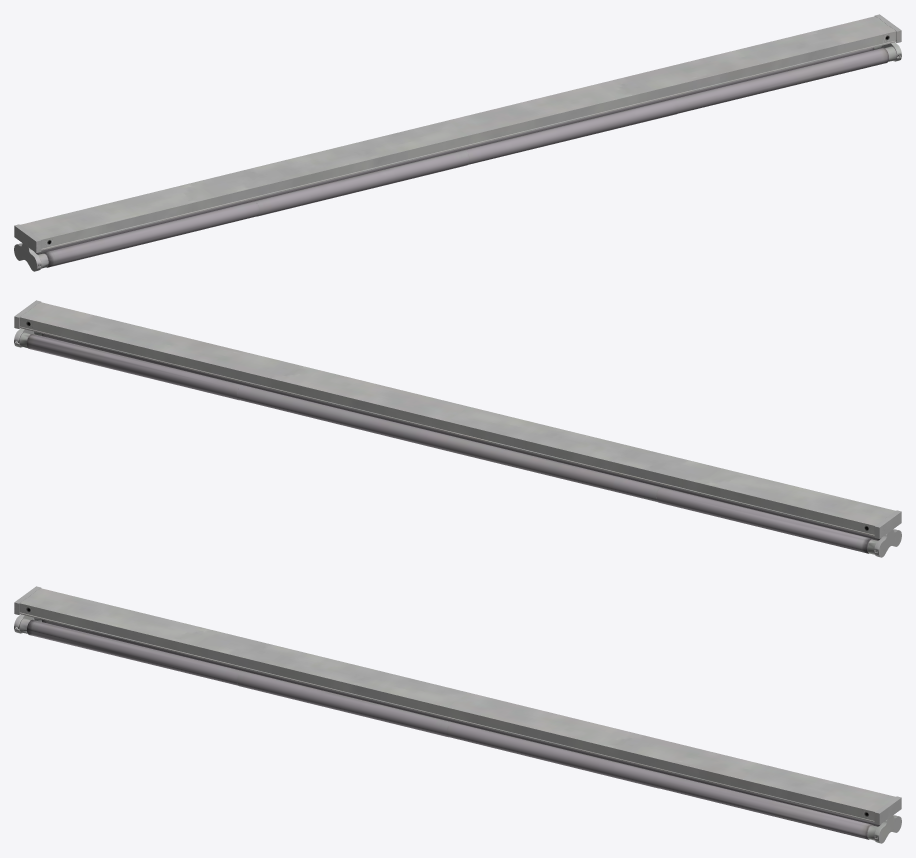
File: ceiling_tube_light.glb
The picture shows the model from 3 angles, top to bottom: view 1: azimuth 30°, elevation 25°; view 2: azimuth 150°, elevation 25°; view 3: azimuth 330°, elevation 25°; orthographic projection.
Visible parts, largest first — view 1: ceiling_tube_light; view 2: ceiling_tube_light; view 3: ceiling_tube_light.
Boxes of the visible parts, left/top/right/bottom form: ceiling_tube_light: left=14, top=14, right=901, bottom=271; ceiling_tube_light: left=14, top=300, right=901, bottom=557; ceiling_tube_light: left=14, top=586, right=901, bottom=843.
Bounding box in the file's own units: 0.9109 × 0.0324 × 0.0421.
2 materials, 2 textured.
